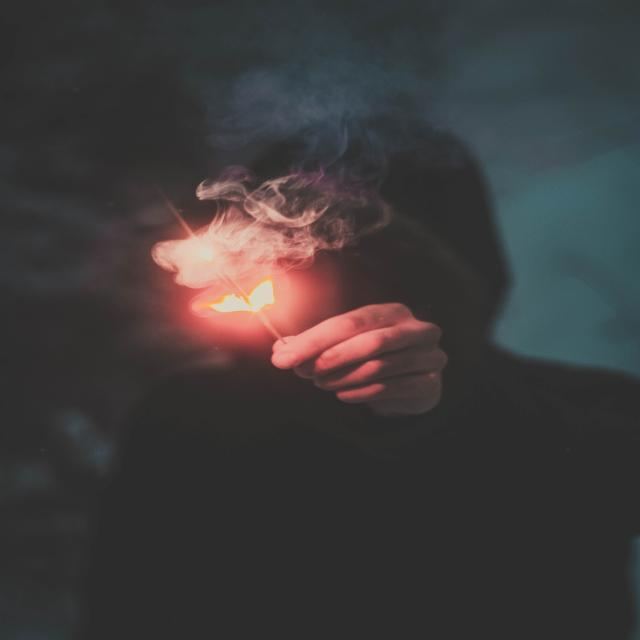Fire: (210, 282, 286, 314)
Smoke: (172, 229, 255, 274)
